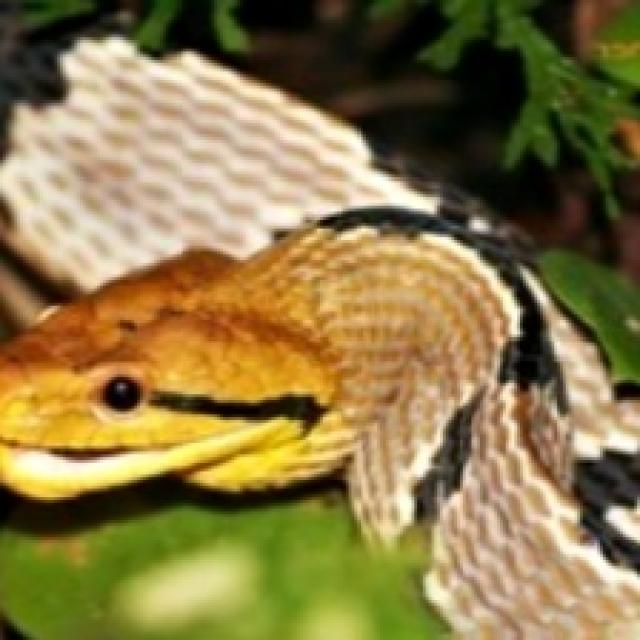dog-toothed cat snake: (0, 37, 637, 637), (0, 209, 637, 637)
